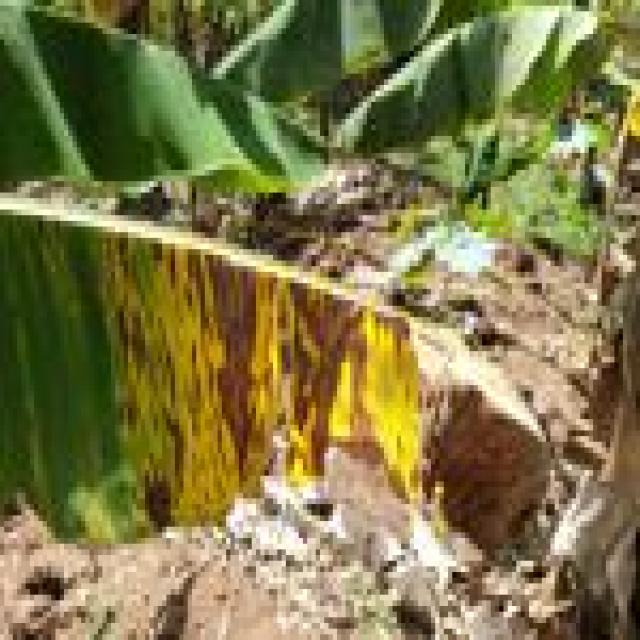Early_rust: (47, 205, 434, 556)
